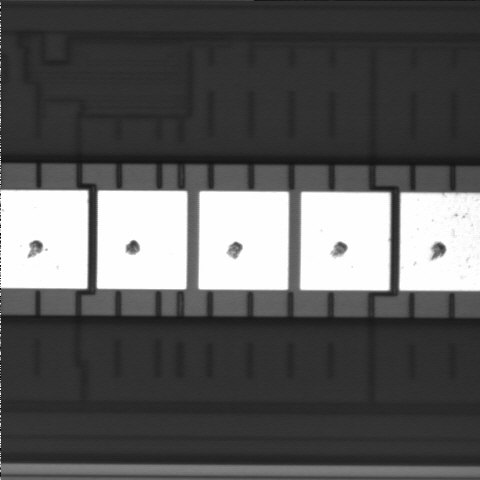pad: (198, 191, 289, 290), (97, 191, 187, 289), (300, 192, 390, 290)
